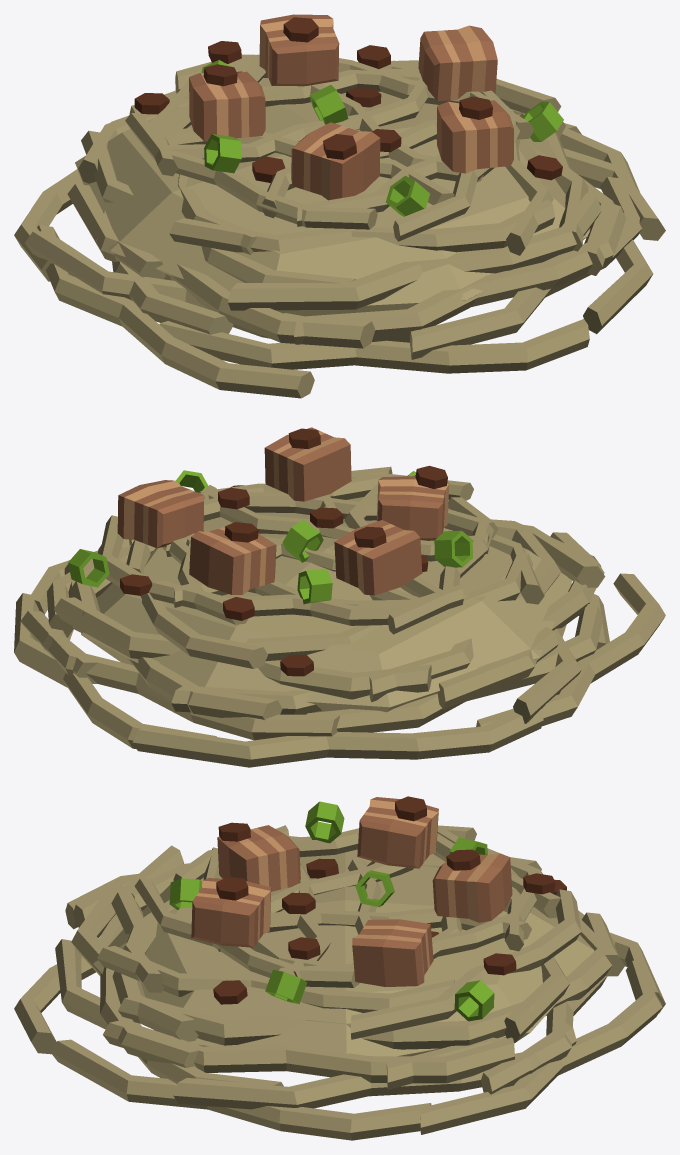
Rendered from Pancit habhab.fbx.
The picture shows the model from 3 angles, top to bottom: view 1: azimuth 30°, elevation 25°; view 2: azimuth 150°, elevation 25°; view 3: azimuth 270°, elevation 25°; orthographic projection. The views are drawn at different scales.
Parts seen in each view (by area): view 1: Pancit Habhab; view 2: Pancit Habhab; view 3: Pancit Habhab.
Part boxes in pixels (box(x1,y1,x2,y2)): Pancit Habhab: box(14, 14, 665, 398); Pancit Habhab: box(14, 427, 665, 767); Pancit Habhab: box(14, 796, 665, 1140).
Bounding box in the file's own units: 74.81 × 23.33 × 77.73.
